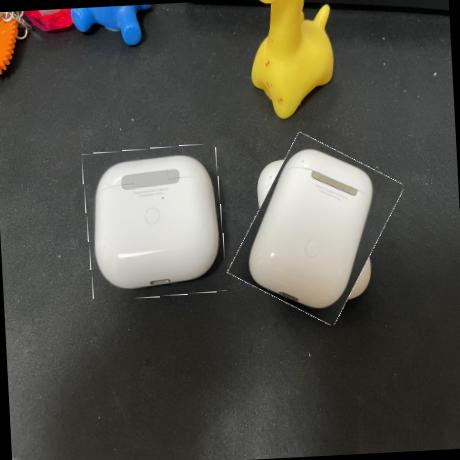airpod2: (236, 136, 396, 321)
airpod3: (82, 144, 226, 300)
